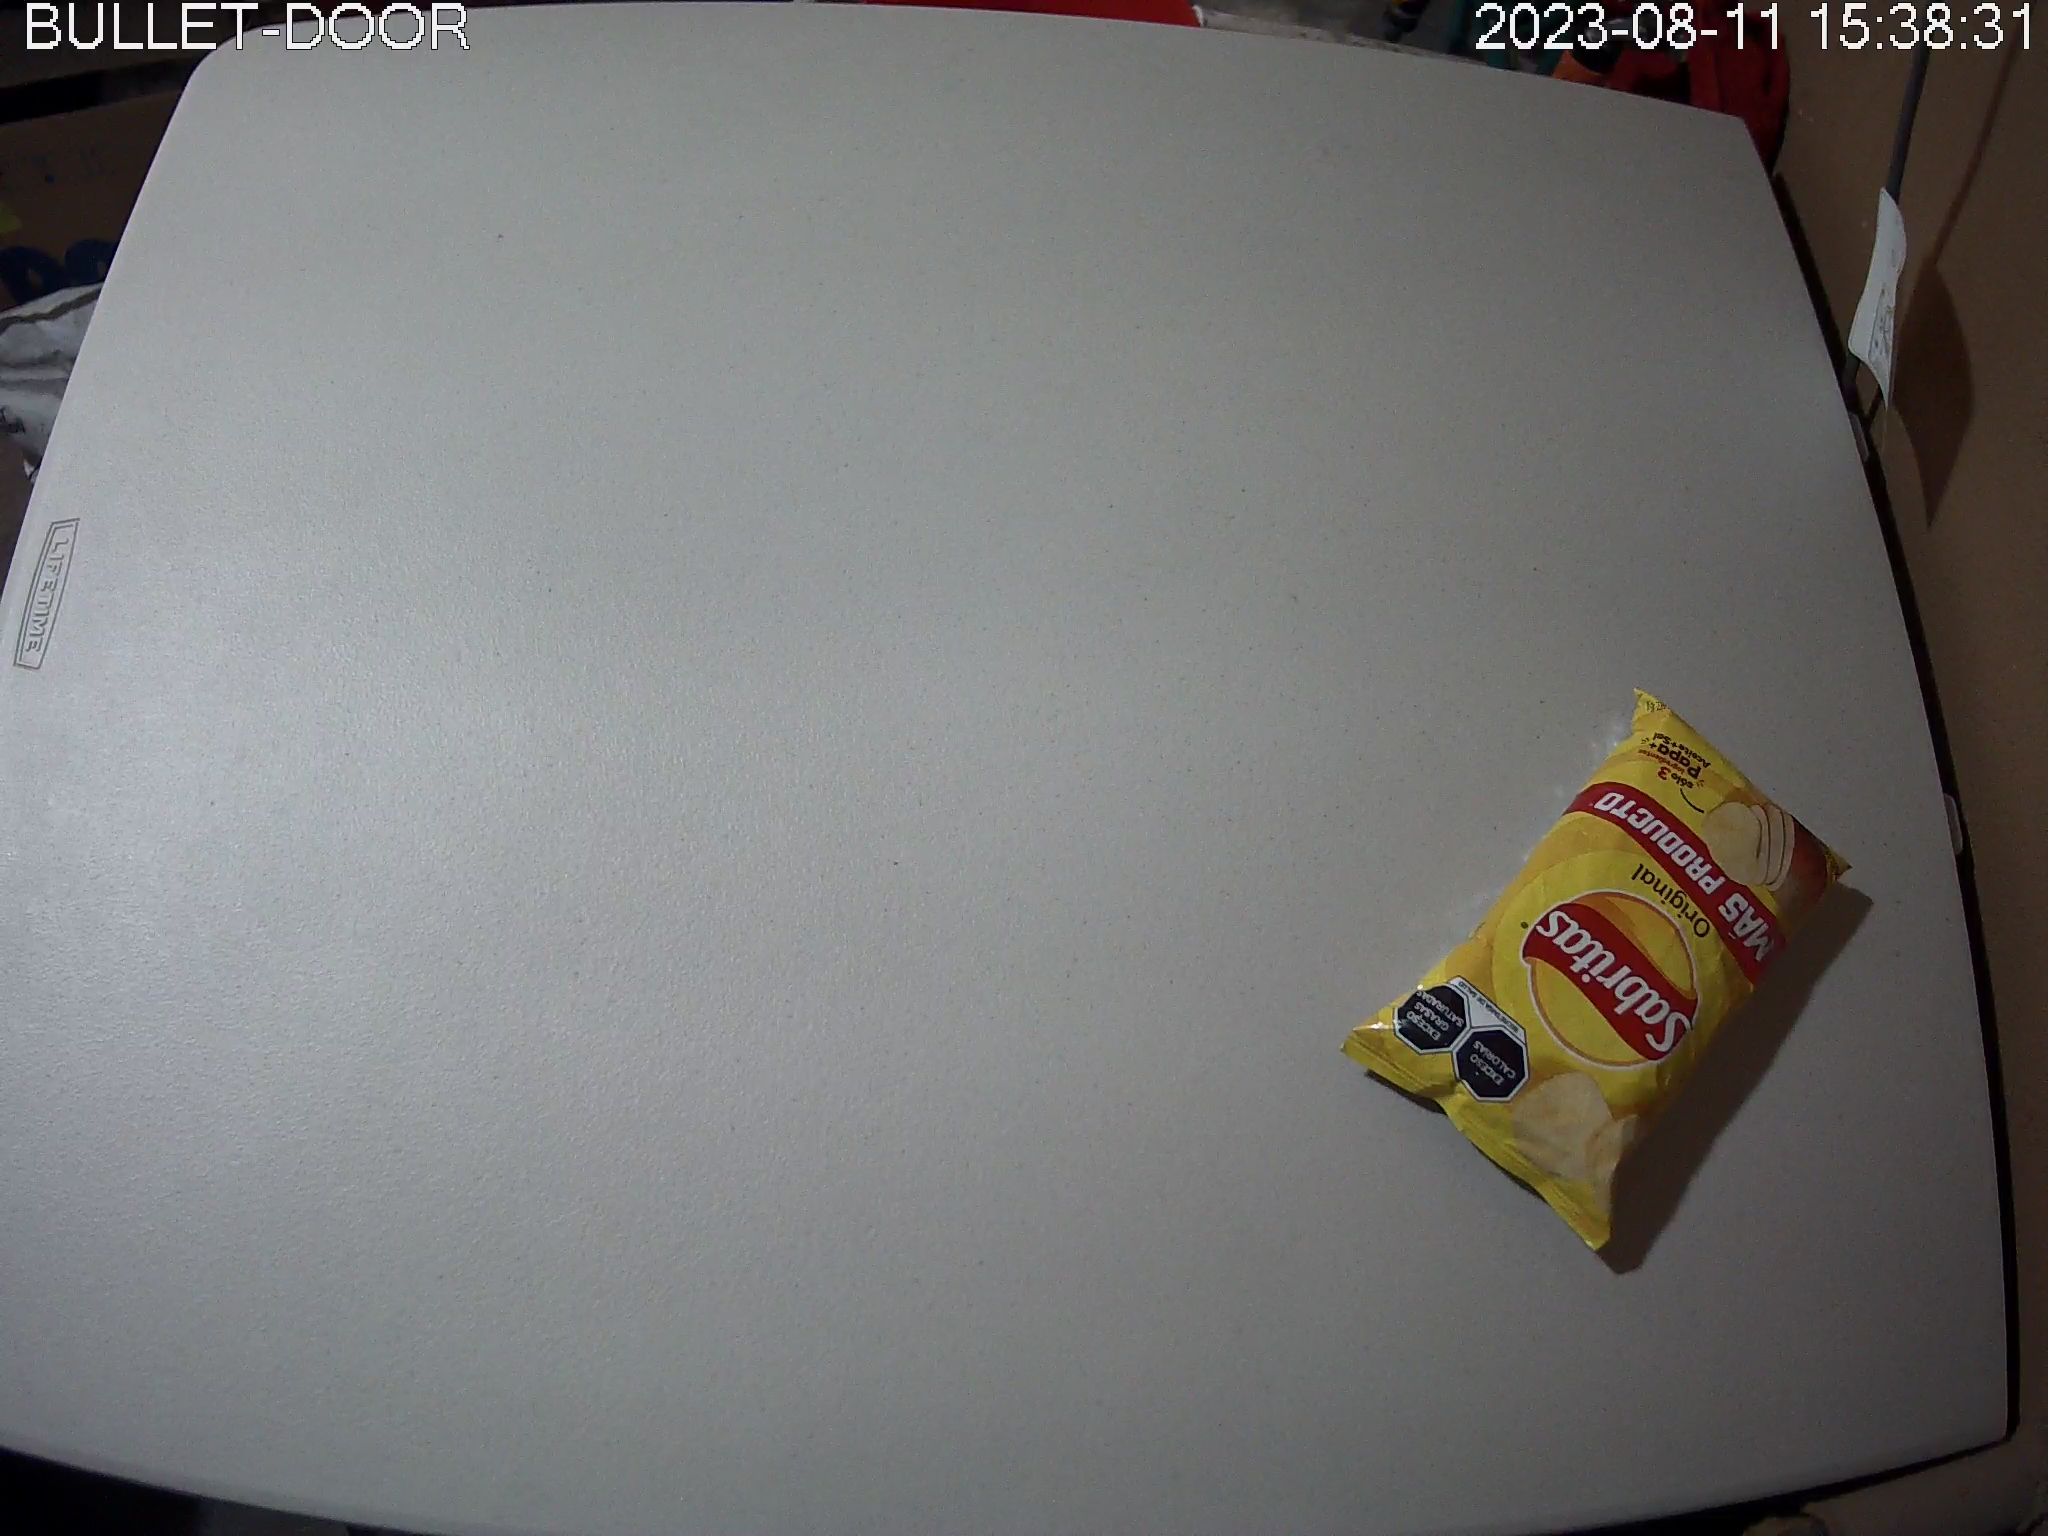Sabritas_45_F: (1338, 687, 1854, 1254)
